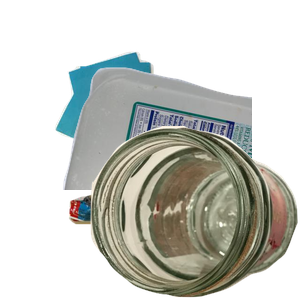glass: (90, 126, 300, 300)
paper: (52, 49, 209, 198)
plastic: (60, 65, 300, 245)
trash: (66, 173, 272, 300)
